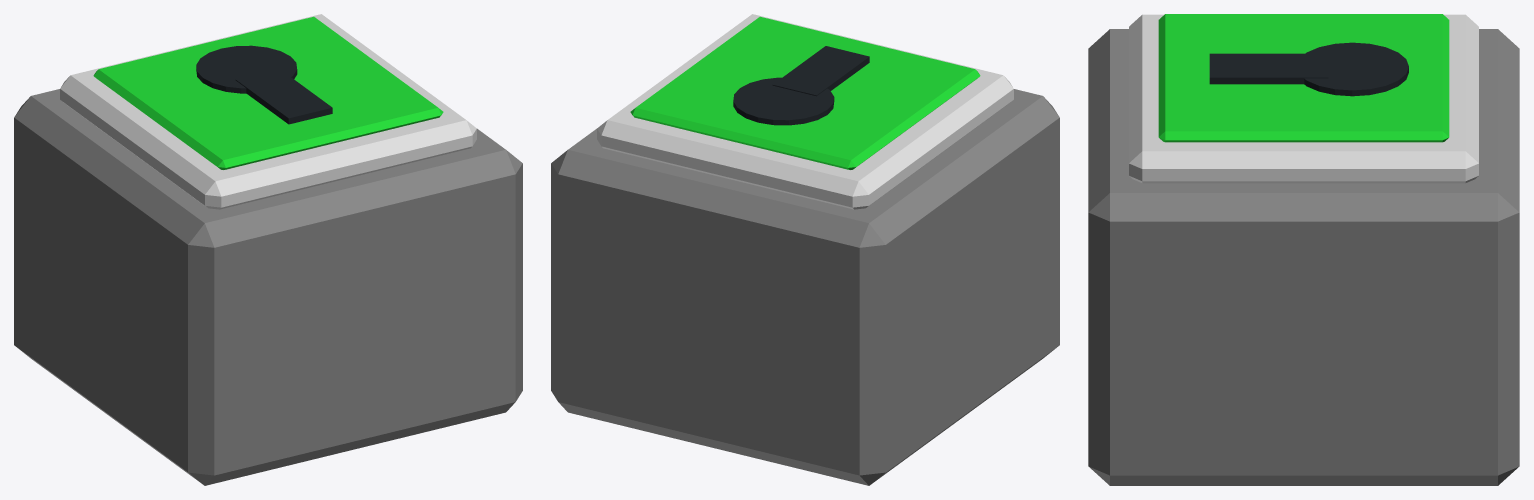
File: door-green.glb
The picture shows the model from 3 angles, left to right: view 1: azimuth 30°, elevation 25°; view 2: azimuth 150°, elevation 25°; view 3: azimuth 270°, elevation 25°; orthographic projection. The views are drawn at different scales.
Parts seen in each view (by area): view 1: door-green; view 2: door-green; view 3: door-green.
Boxes of the visible parts, bbox=[...] form: door-green: bbox=[14, 14, 522, 485]; door-green: bbox=[551, 14, 1059, 485]; door-green: bbox=[1088, 14, 1519, 485].
Bounding box in the file's own units: 0.8 × 0.693 × 0.8.
